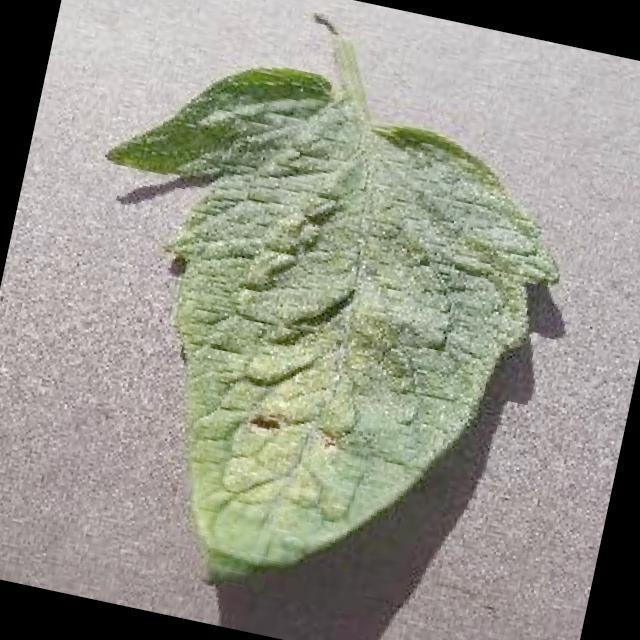Tomato spider mites leaf: (24, 35, 588, 637)
